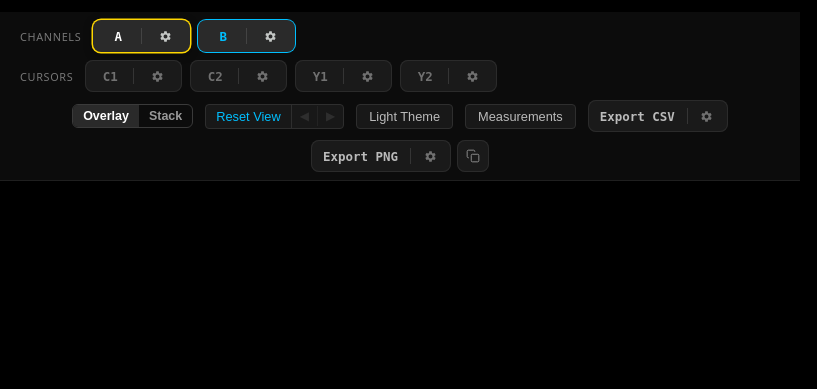
Scenario: Out-of-view Cursor Recovery (Issue #15) › AC9: Toggling cursor off dismisses its recovery badge
The image size is (817, 389).
Click the button with test id "cursor-toggle-c1" at (109, 76), box [85,52,133,100]
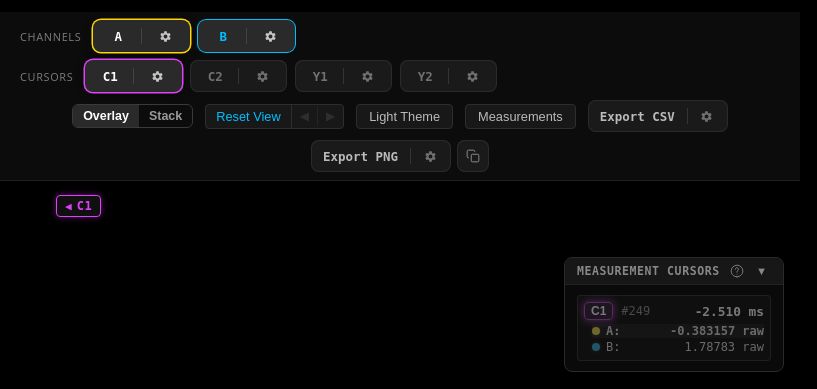
Check: the button with test id "cursor-recovery-badge-c1" is shown, box [56,195,101,217]
Note: Toggle C1 off
Click the button with test id "cursor-toggle-c1" at (109, 76), box [85,52,133,100]
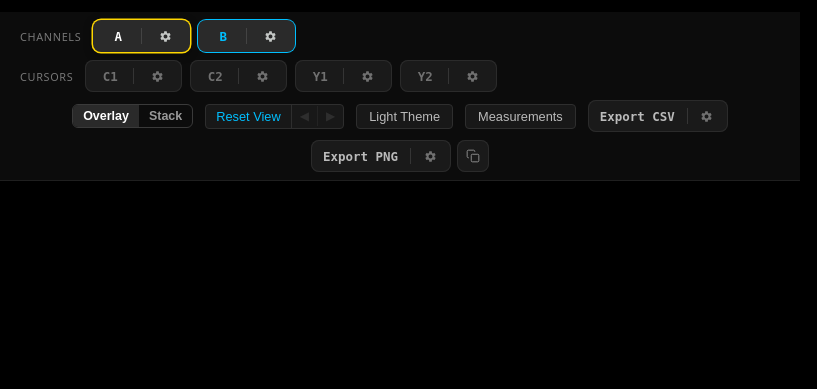
Check: the button with test id "cursor-recovery-badge-c1" is gone
